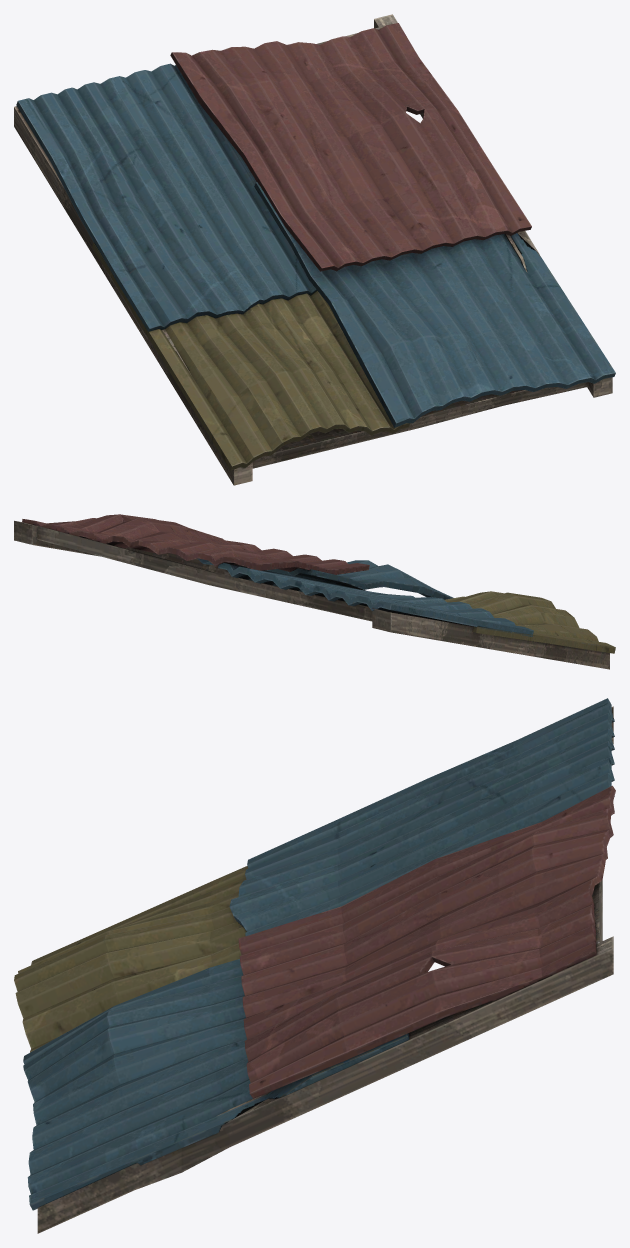
File: MetalRoof_2x2.glb
3 views of the same model, one above another, from view 1: azimuth 30°, elevation 25°; view 2: azimuth 150°, elevation 25°; view 3: azimuth 270°, elevation 25° (orthographic). The views are drawn at different scales.
Parts seen in each view (by area): view 1: MetalRoof_2x2; view 2: MetalRoof_2x2; view 3: MetalRoof_2x2.
Boxes of the visible parts, bbox=[...] form: MetalRoof_2x2: bbox=[14, 14, 615, 485]; MetalRoof_2x2: bbox=[14, 514, 615, 669]; MetalRoof_2x2: bbox=[14, 698, 615, 1233].
Bounding box in the file's own units: 2.02 × 1.18 × 2.1.
Materials: 1 (1 with a texture image).
